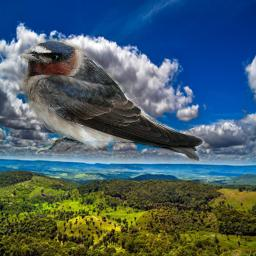Swallow: (16, 38, 206, 163)
